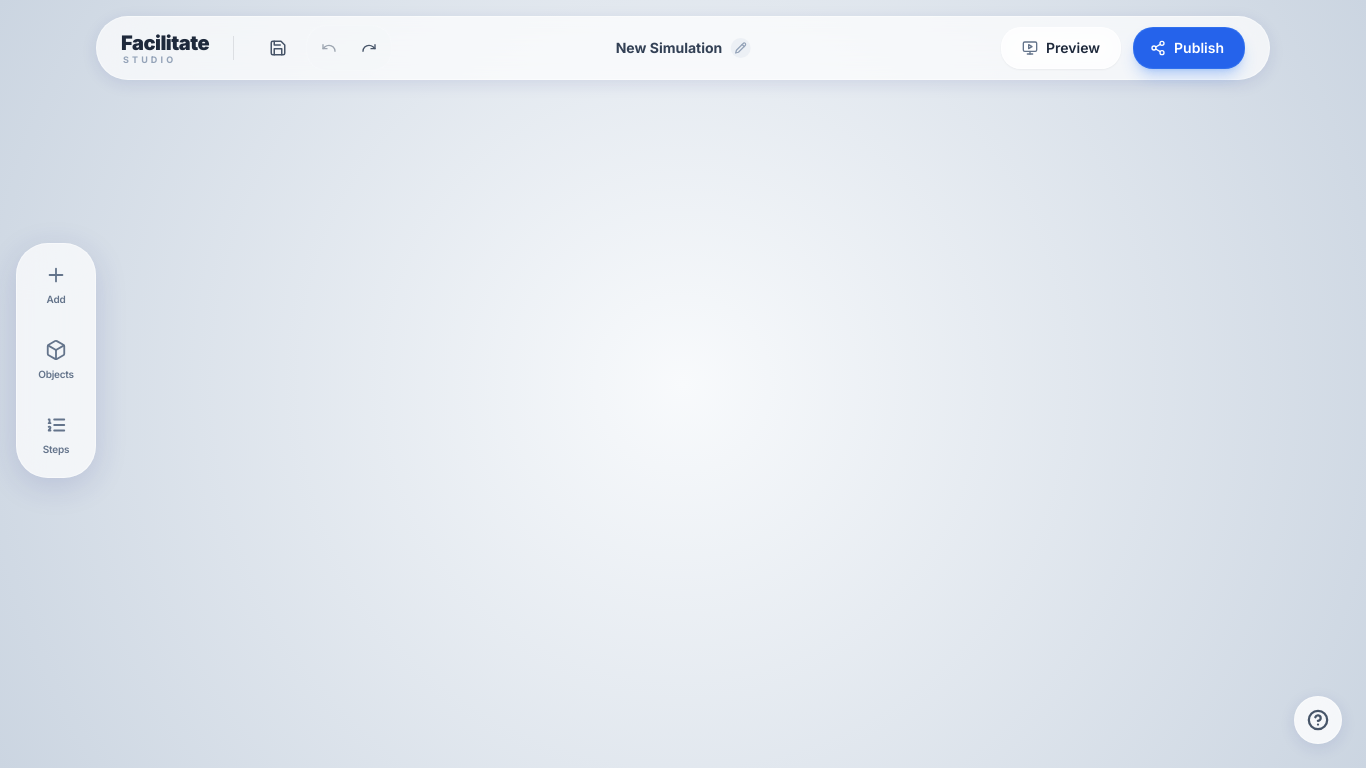
Test: App › opens Steps panel when Steps button is clicked
Click the button "Steps" at (56, 435), box [25, 402, 87, 468]
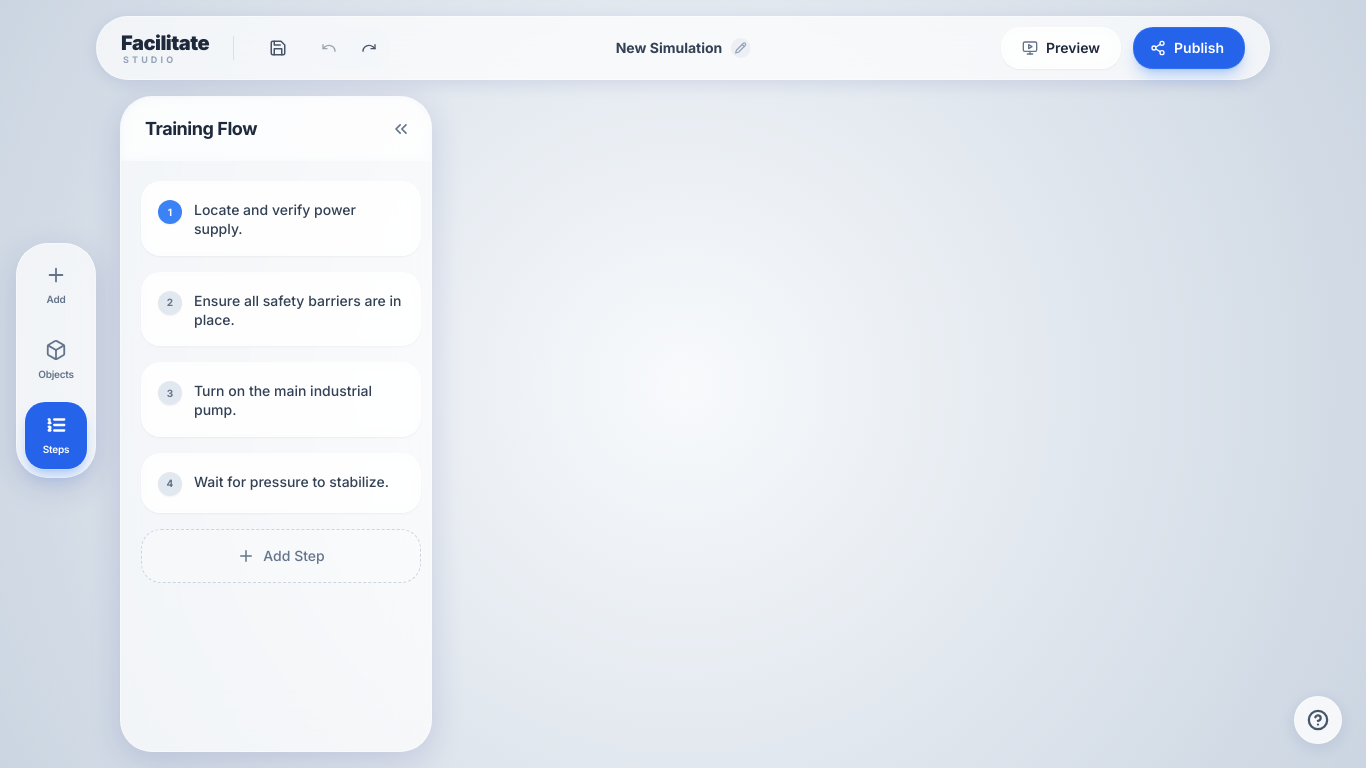
Expected: the heading "Training Flow" is shown, [145, 114, 257, 142]
